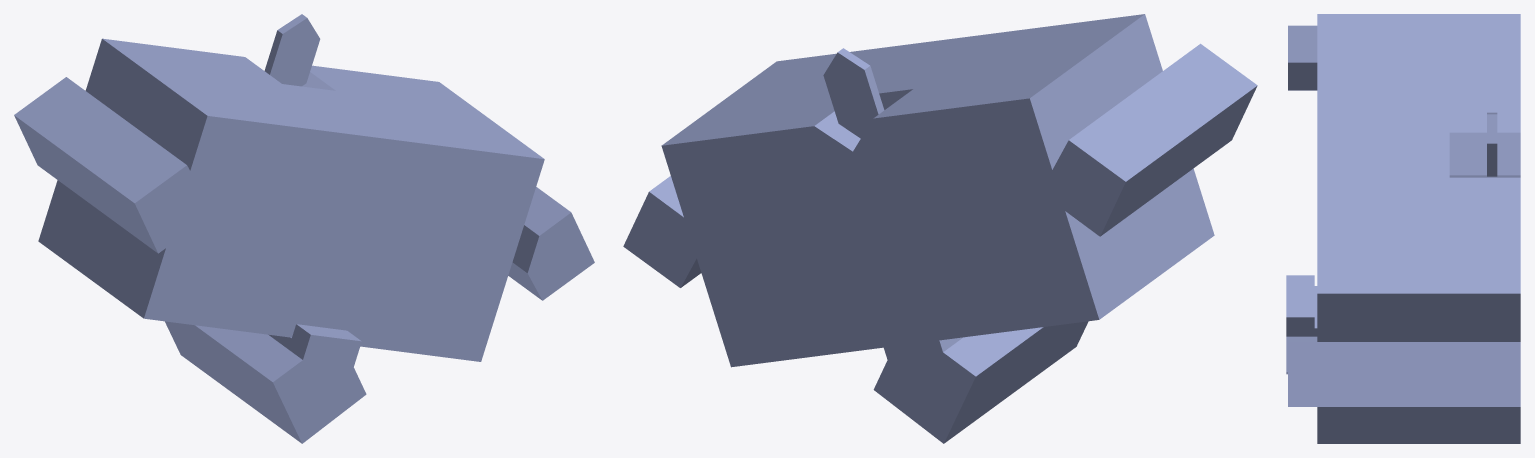
3 views of the same model, side by side, from view 1: azimuth 30°, elevation 25°; view 2: azimuth 150°, elevation 25°; view 3: azimuth 270°, elevation 25° (orthographic). The views are drawn at different scales.
Visible parts, largest first — view 1: E3A; view 2: E3A; view 3: E3A.
Part boxes in pixels (left/top/right/bottom): E3A: left=14, top=14, right=594, bottom=443; E3A: left=623, top=14, right=1257, bottom=443; E3A: left=1286, top=14, right=1520, bottom=443.
Bounding box in the file's own units: 73.14 × 50.97 × 33.45.
